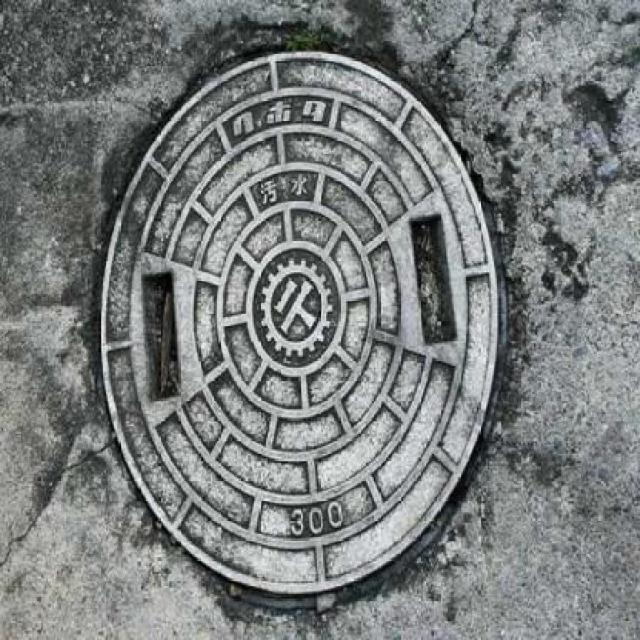Manhole: (88, 36, 512, 604)
